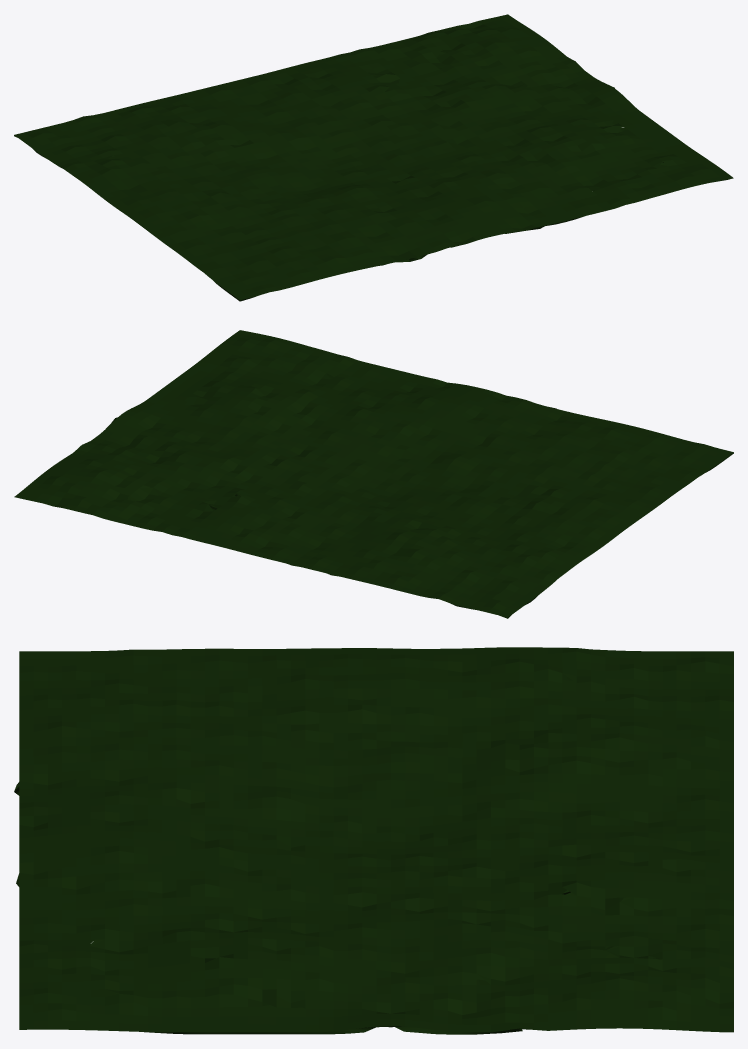
The model's file is Terrain.FBX.
The picture shows the model from 3 angles, top to bottom: view 1: azimuth 30°, elevation 25°; view 2: azimuth 150°, elevation 25°; view 3: azimuth 270°, elevation 25°; orthographic projection. The views are drawn at different scales.
Visible parts, largest first — view 1: Plane001; view 2: Plane001; view 3: Plane001.
Part boxes in pixels (<box>): Plane001: <box>14,14,733,301</box>; Plane001: <box>14,330,733,618</box>; Plane001: <box>14,647,733,1034</box>.
Bounding box in the file's own units: 4069 × 3228 × 131.
